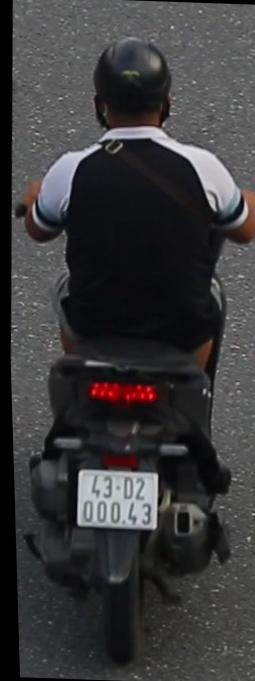LP: (67, 462, 159, 537)
helmet: (79, 31, 190, 156)
